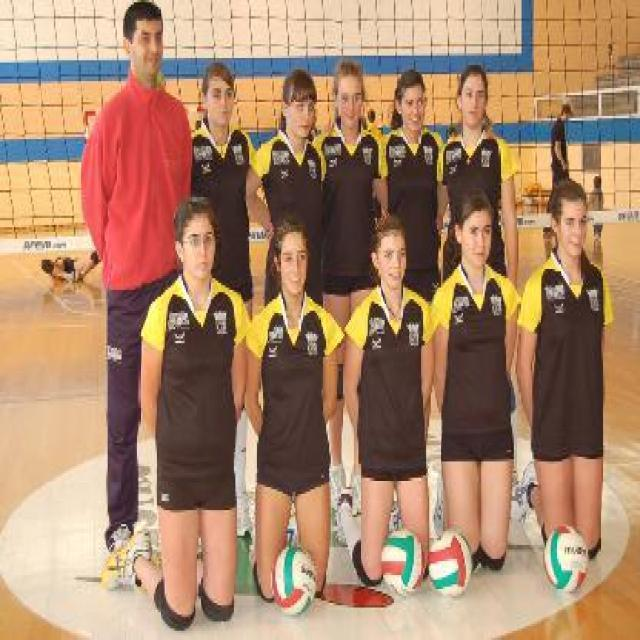volleyball: (270, 544, 316, 616), (380, 528, 425, 596), (544, 526, 588, 592), (430, 530, 472, 598)
